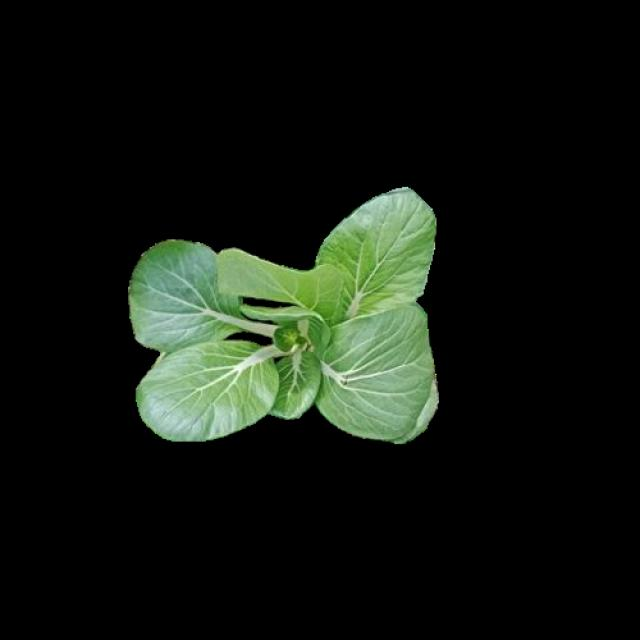healthy: (132, 197, 435, 439)
not-mature: (130, 188, 438, 442)
